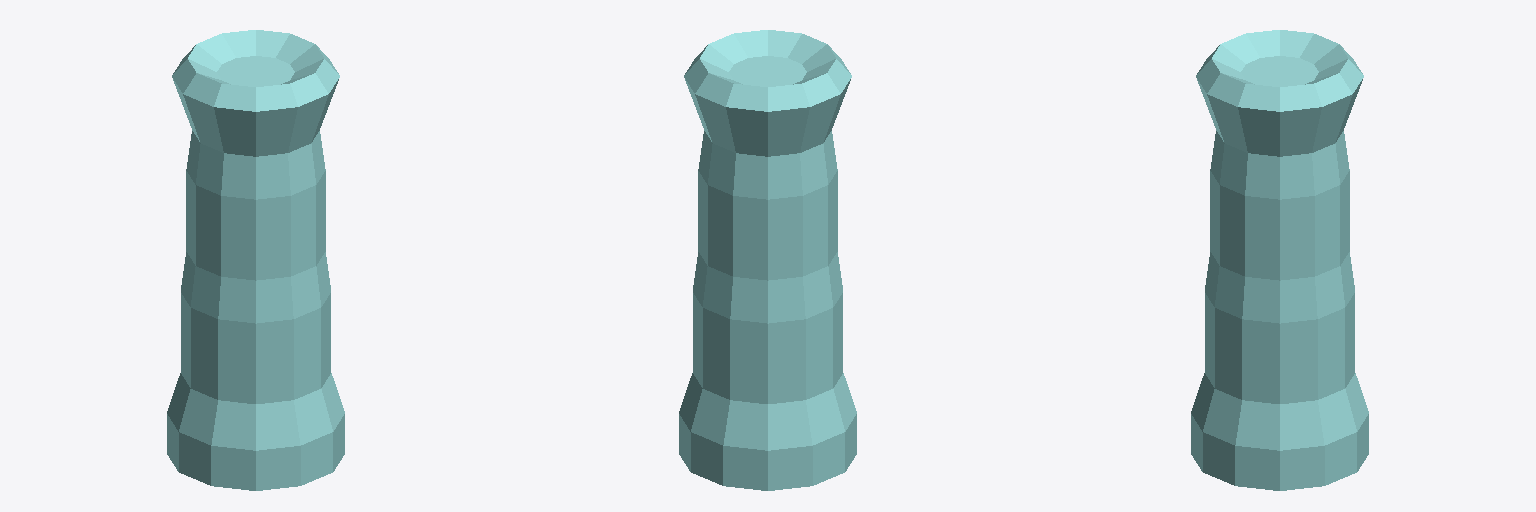
Rendered from Castle.obj.
3 views of the same model, side by side, from view 1: azimuth 30°, elevation 25°; view 2: azimuth 150°, elevation 25°; view 3: azimuth 270°, elevation 25° (orthographic).
Parts seen in each view (by area): view 1: Cylinder001; view 2: Cylinder001; view 3: Cylinder001.
Boxes of the visible parts, box(x1,y1,x2,y2) form: Cylinder001: box(167, 30, 344, 490); Cylinder001: box(679, 30, 856, 490); Cylinder001: box(1191, 30, 1368, 490).
Bounding box in the file's own units: 8 × 19.53 × 8.